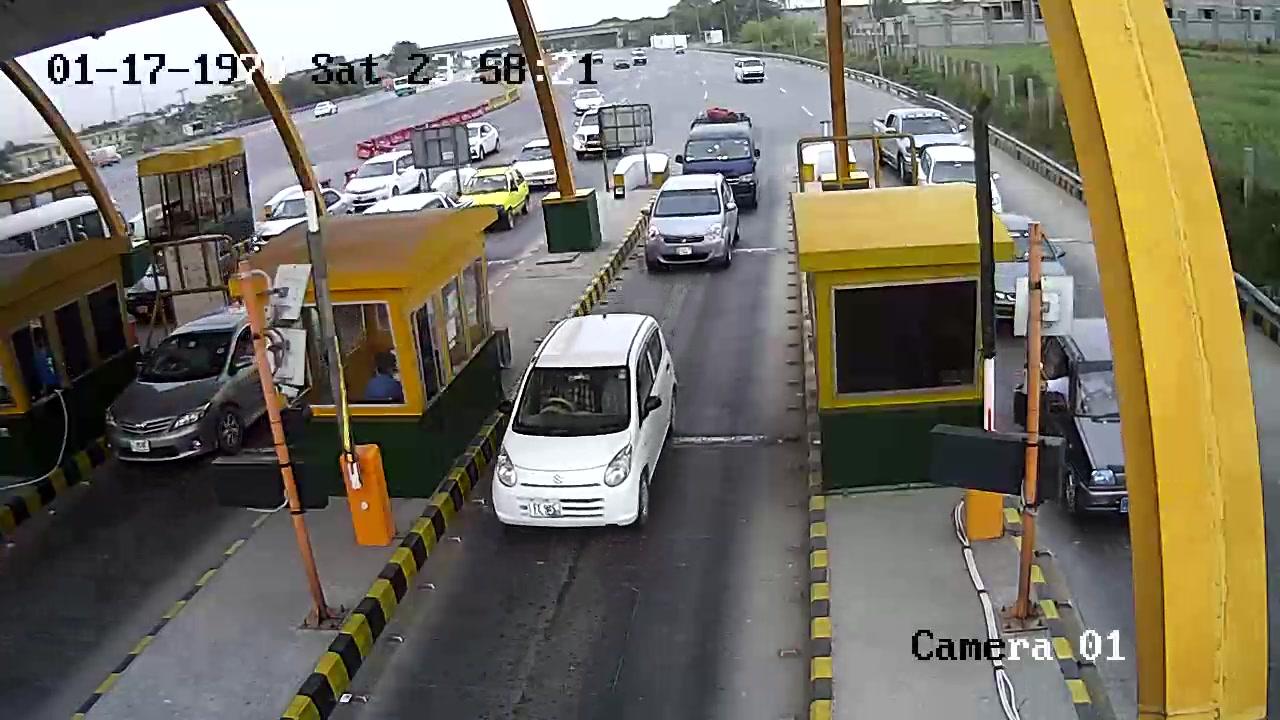F1: (477, 313, 681, 550)
